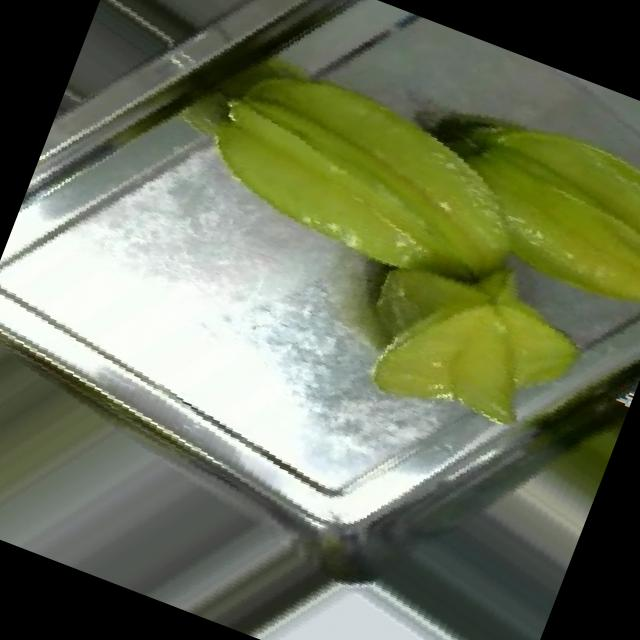fruit: (305, 15, 640, 408), (306, 187, 638, 496)
